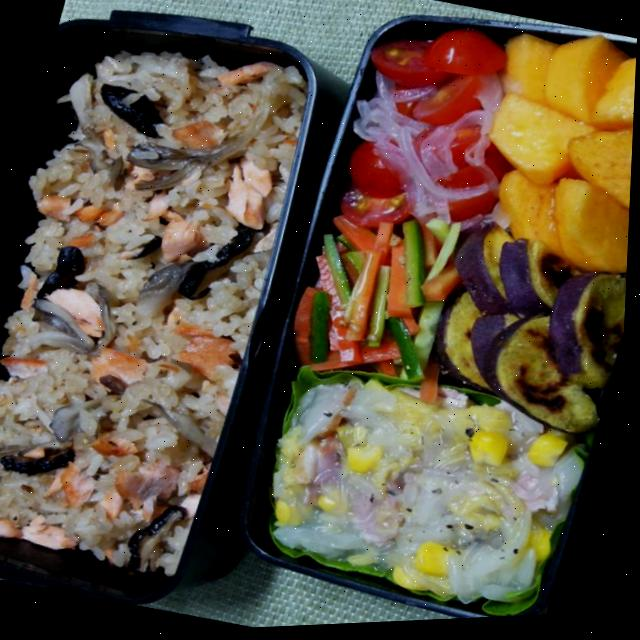米饭主食: (0, 7, 327, 590)
